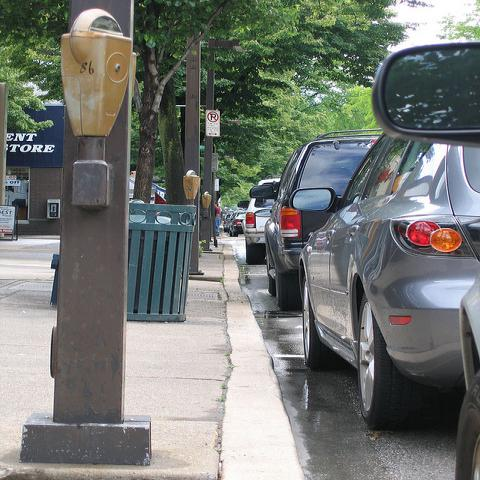car: (290, 132, 479, 430), (264, 128, 382, 312), (454, 277, 479, 479), (237, 198, 276, 264), (227, 210, 244, 237), (223, 213, 232, 232)
